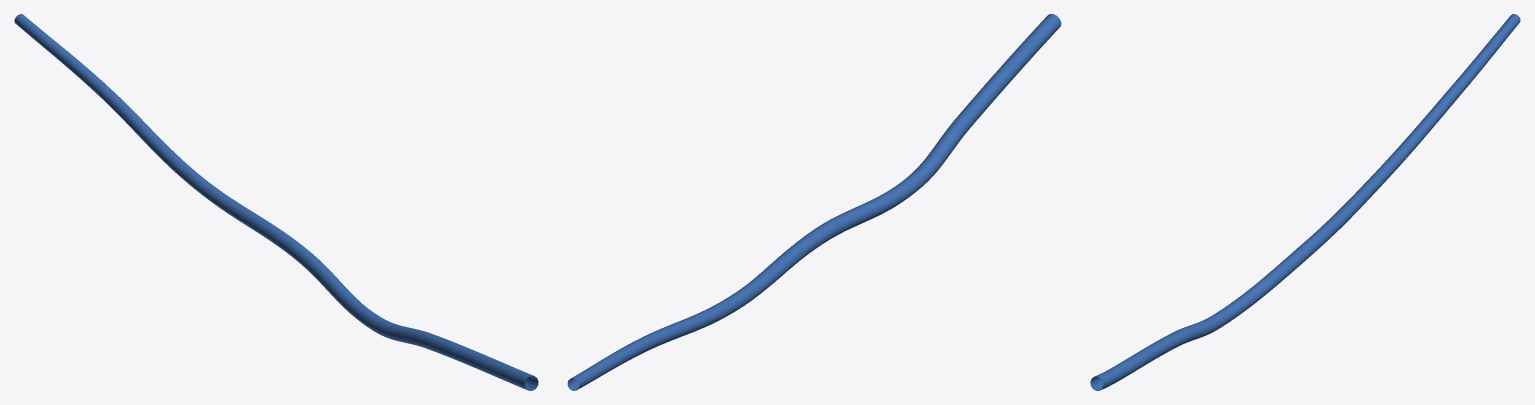
3 renders of one model, left to right at view 1: azimuth 30°, elevation 25°; view 2: azimuth 150°, elevation 25°; view 3: azimuth 330°, elevation 25°, orthographic. The views are drawn at different scales.
Visible parts, largest first — view 1: 右侧腹壁上静脉; view 2: 右侧腹壁上静脉; view 3: 右侧腹壁上静脉.
Part boxes in pixels (x1,y1,x2,y2): 右侧腹壁上静脉: [14, 14, 538, 390]; 右侧腹壁上静脉: [567, 14, 1061, 390]; 右侧腹壁上静脉: [1090, 14, 1520, 390].
Bounding box in the file's own units: 0.0137 × 0.0211 × 0.2309.
